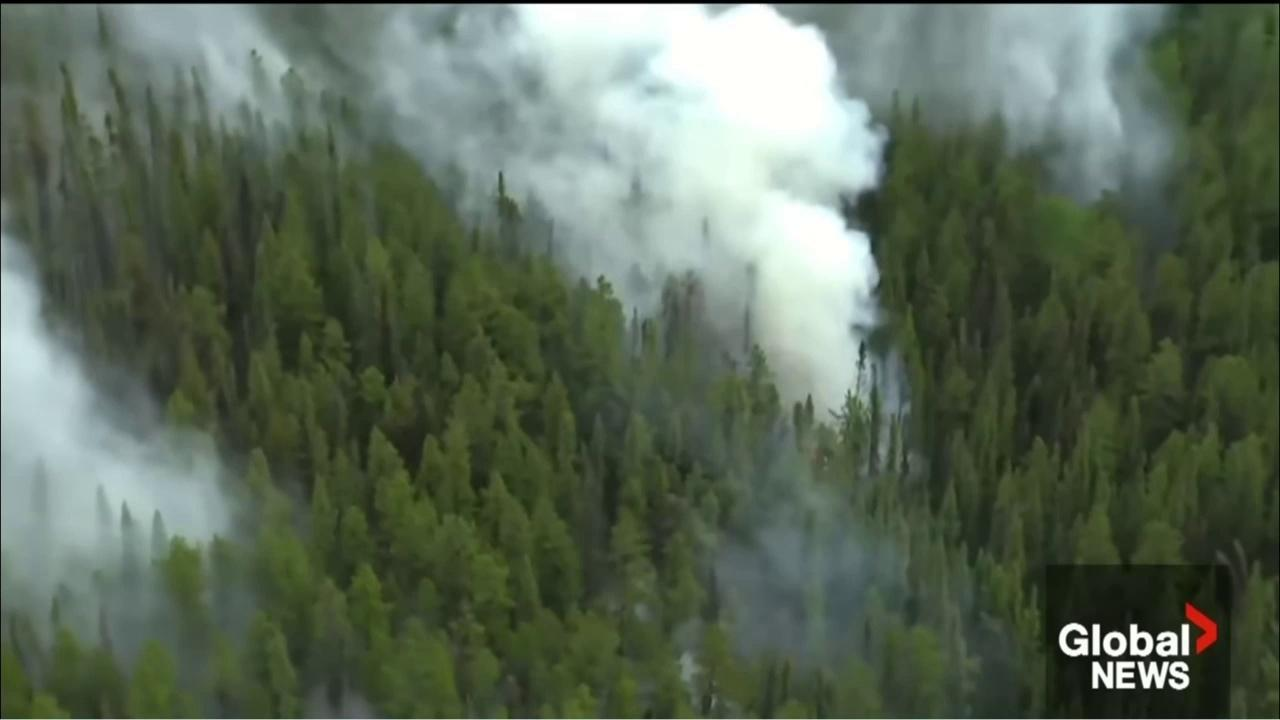smoke: (2, 2, 1205, 492), (1, 194, 266, 720), (584, 423, 1026, 713), (301, 683, 375, 718)
